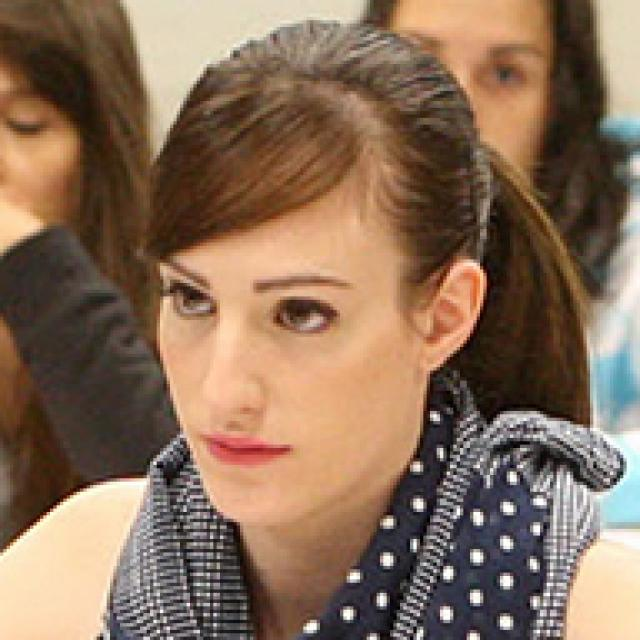Attentive: (150, 232, 393, 526)
